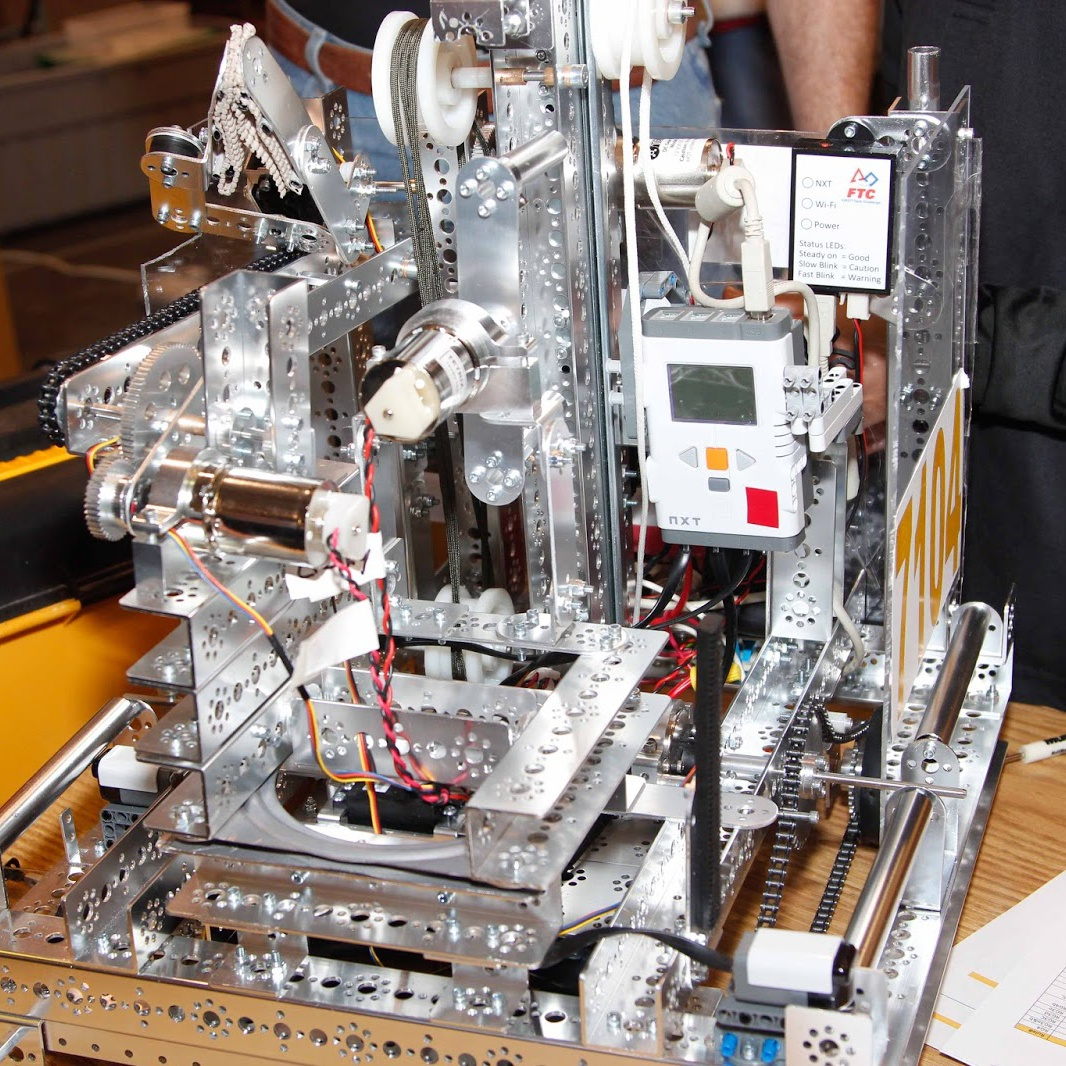robot: (0, 0, 1034, 1065)
